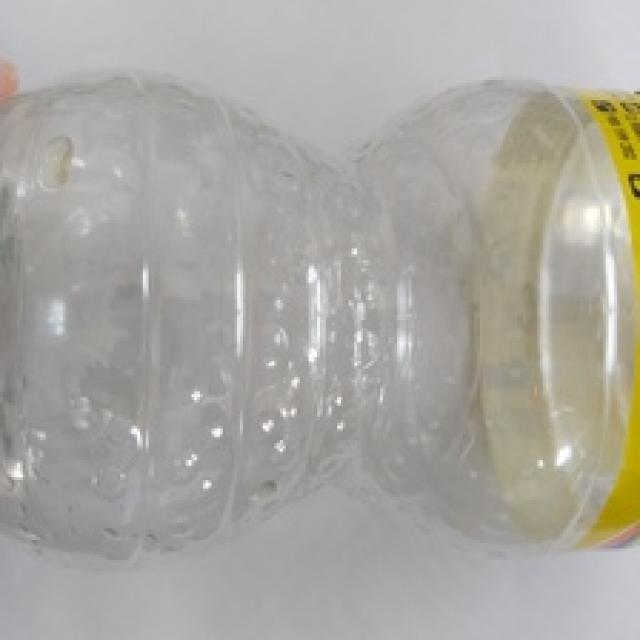Plastic: (0, 75, 640, 559)
